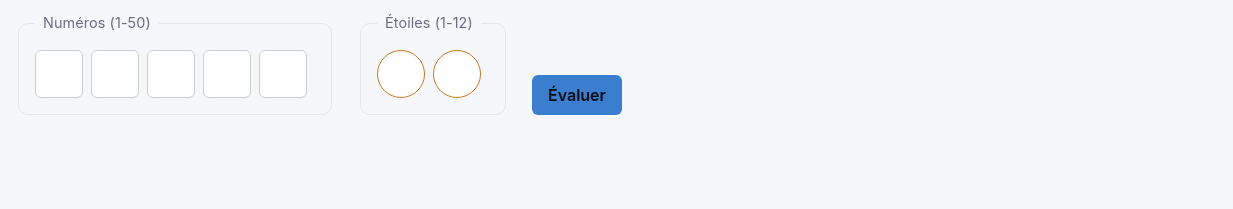
Scenario: GridInputForm › shows an error instead of submitting when the grid is incomplete
The image size is (1233, 209).
What coordinates should you click on to do the following:
click the button "Évaluer"
I would click on:
 (577, 95)
Its box is [532, 74, 622, 115].
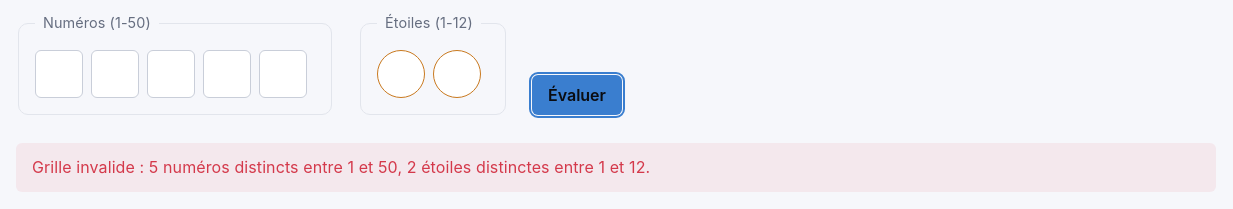
expect the message with test id "grid-input-error" is shown: met, box [16, 143, 1216, 192]
